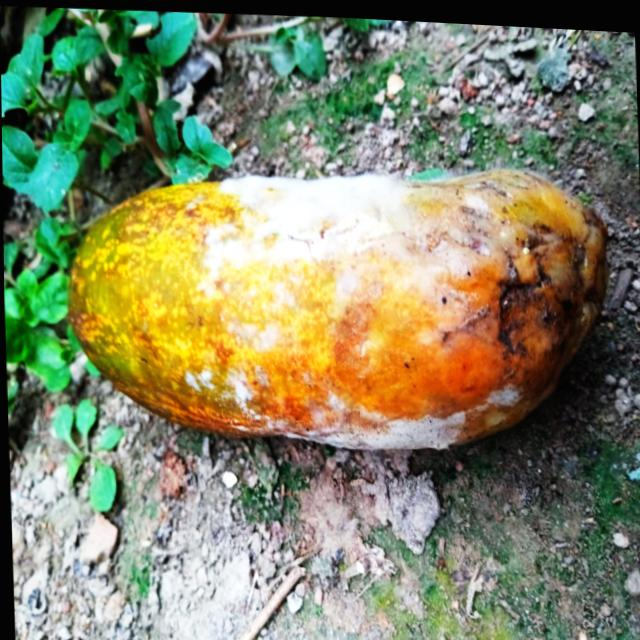Pythium-Fruit-Rot: (173, 142, 612, 456)
